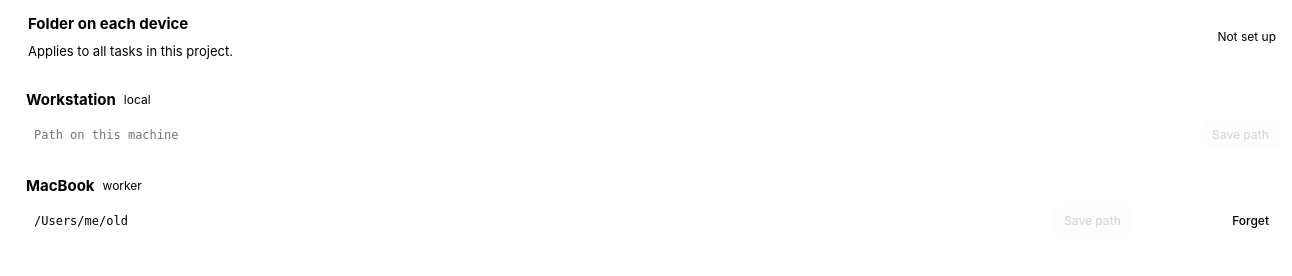
Test case: ProjectWorkspaceHosts › shows a failed remote Forget and allows retry
The width and height of the screenshot is (1292, 276).
Click the button "Forget". click: (1251, 221)
box: [1221,206,1280,236]
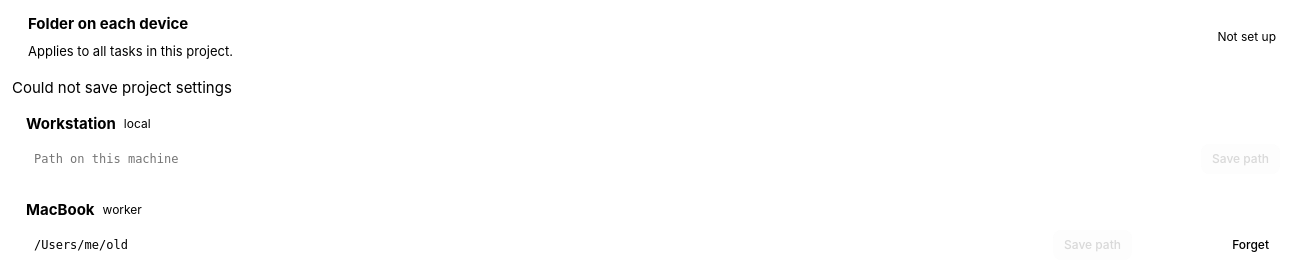
Check: the field named "Path on this machine · MacBook" holds "/Users/me/old", box [26,232,1045,258]
Check: the message reads "Could not save project settings", box [12,78,232,97]
Click the button "Forget". click: (1251, 245)
box: [1221,230,1280,260]
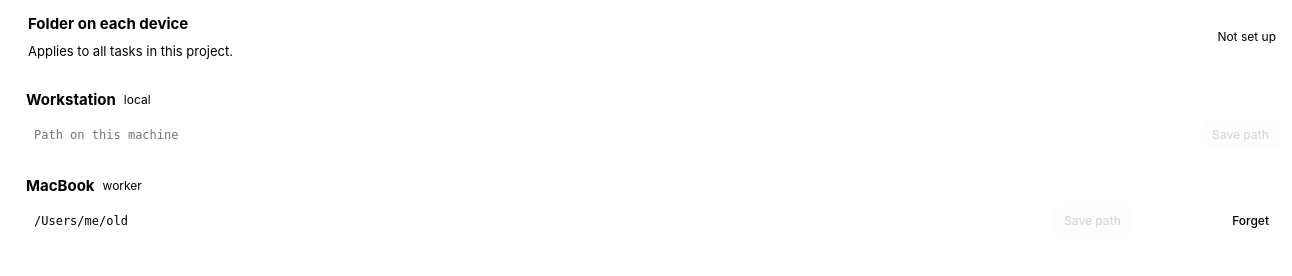
Check: the message "Could not save project settings" is gone
